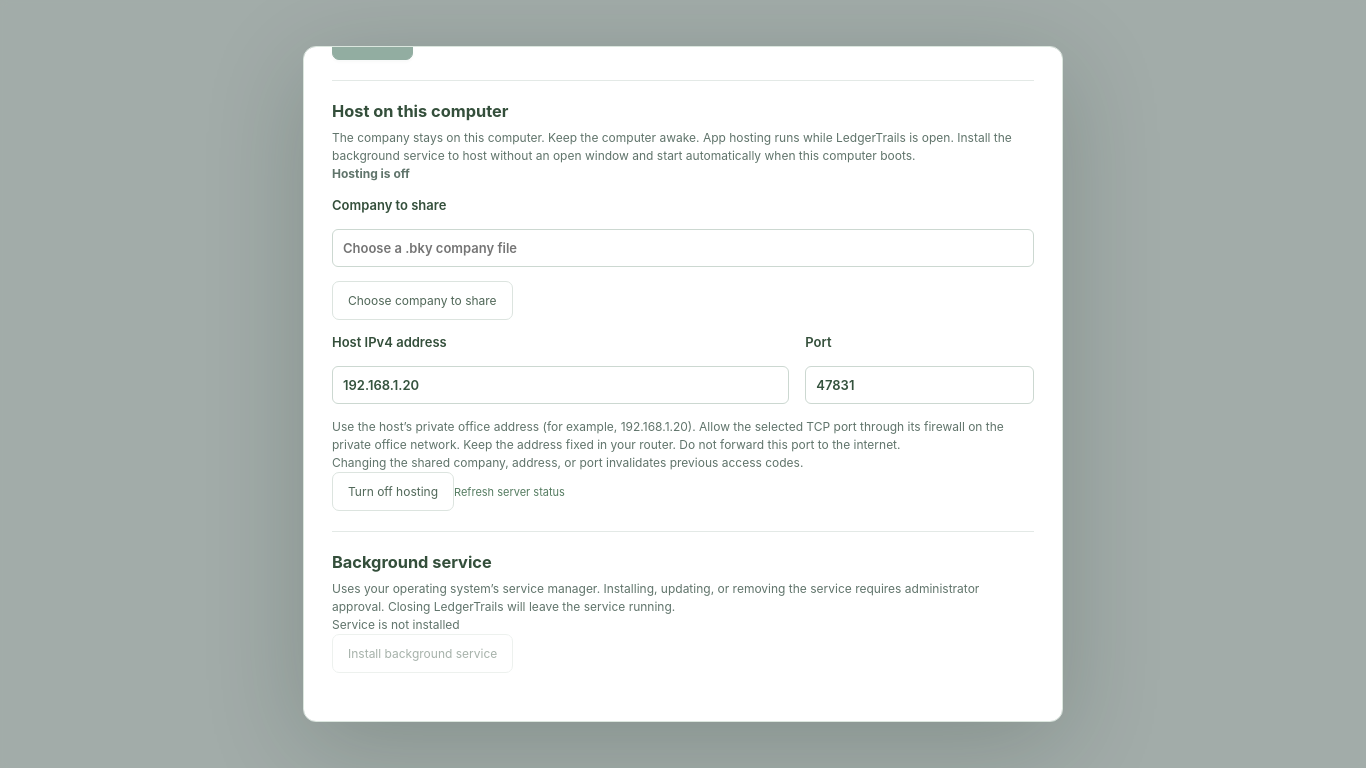
Test: saved hosting can be disabled even when startup failed
(page scrolled)
Click the button "Turn off hosting" at [393, 491], box [332,472,454,511]
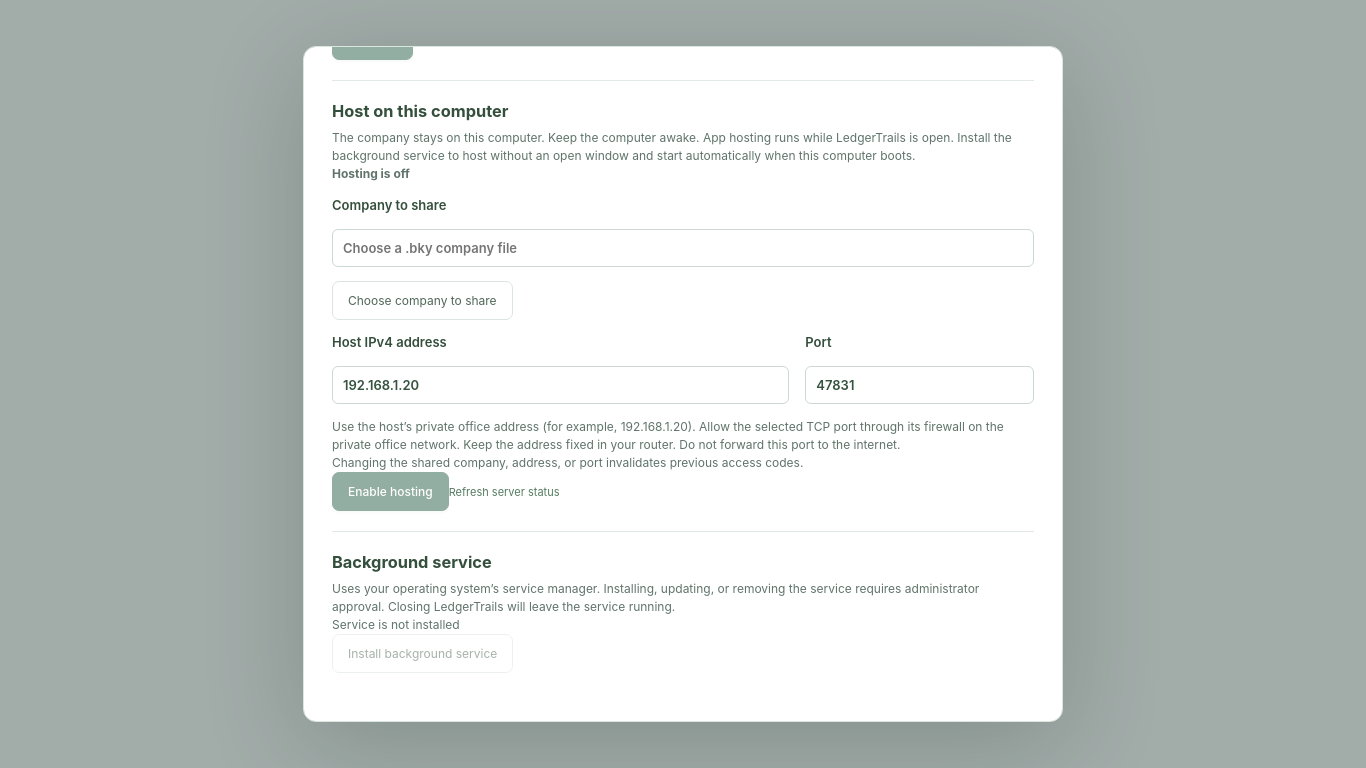
Check: the button "Enable hosting" is shown, box [332,472,449,512]
